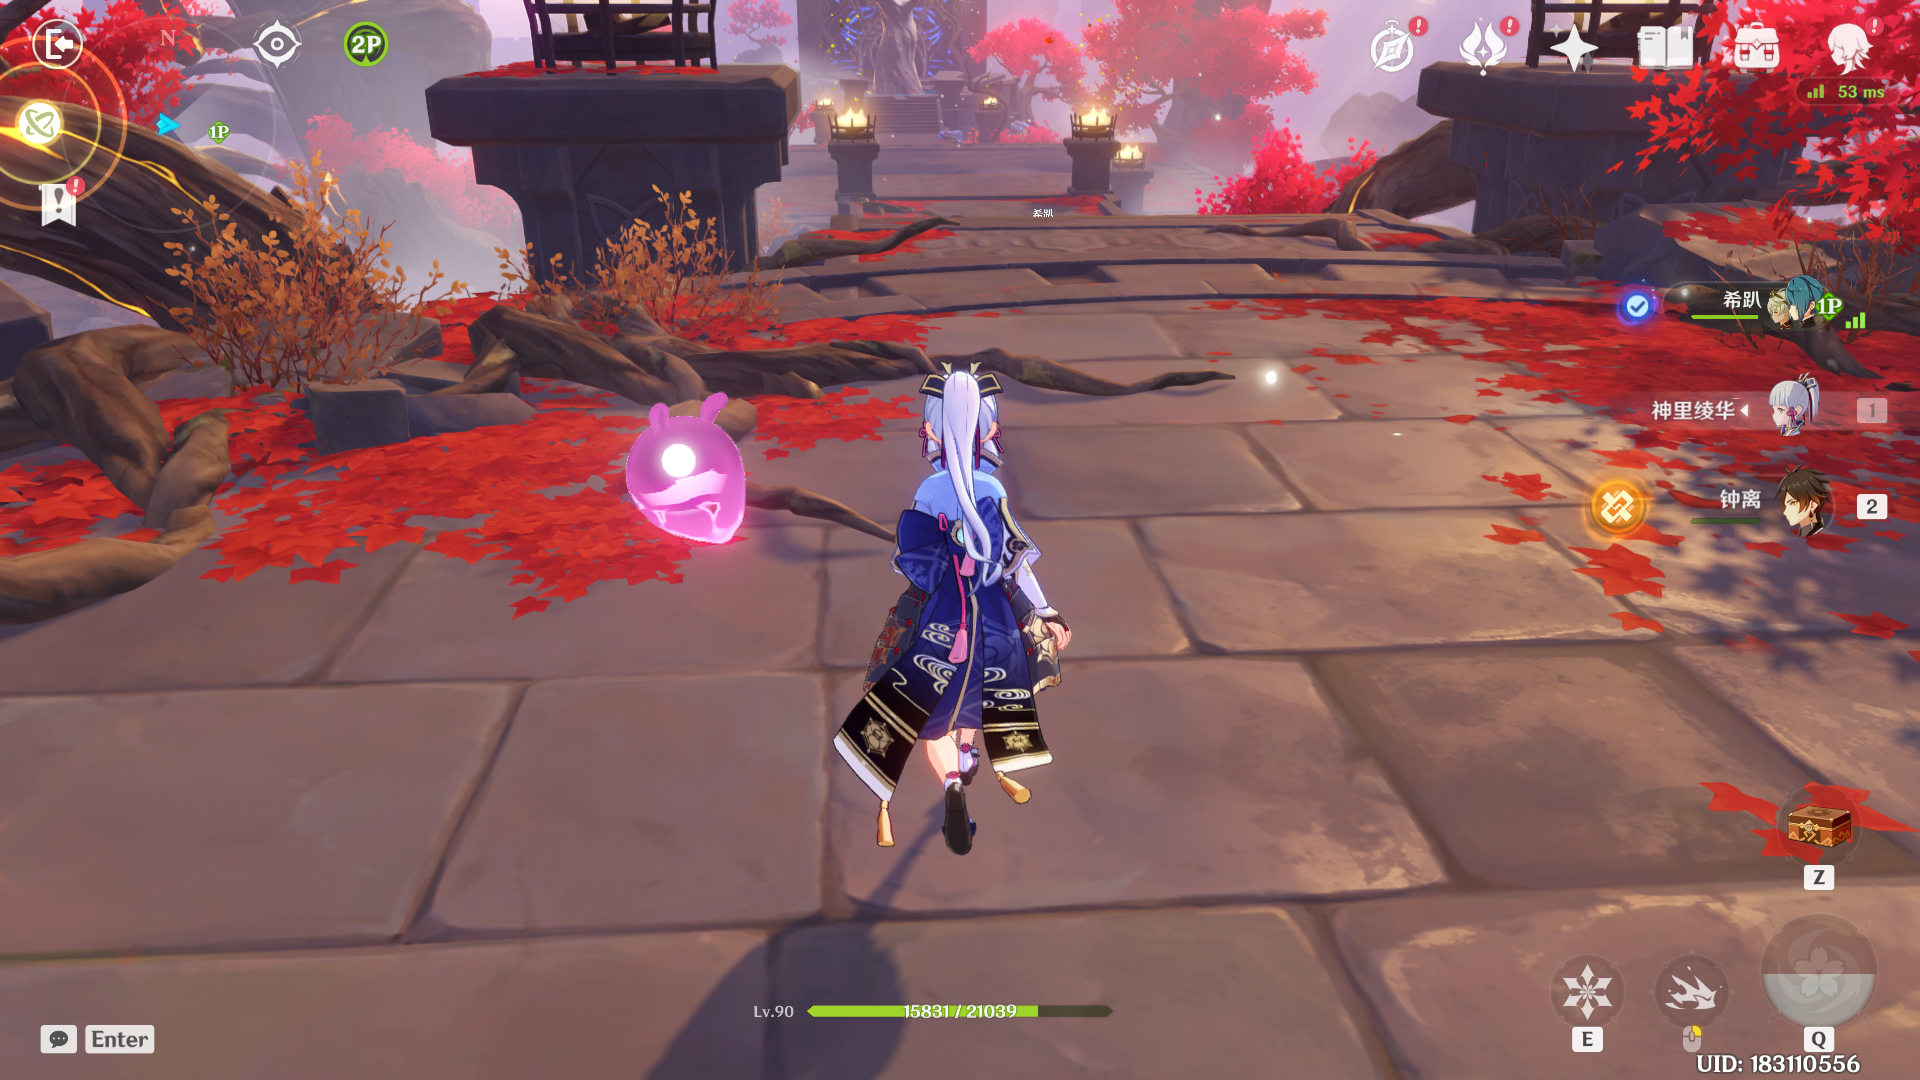character: (832, 334, 1084, 905)
